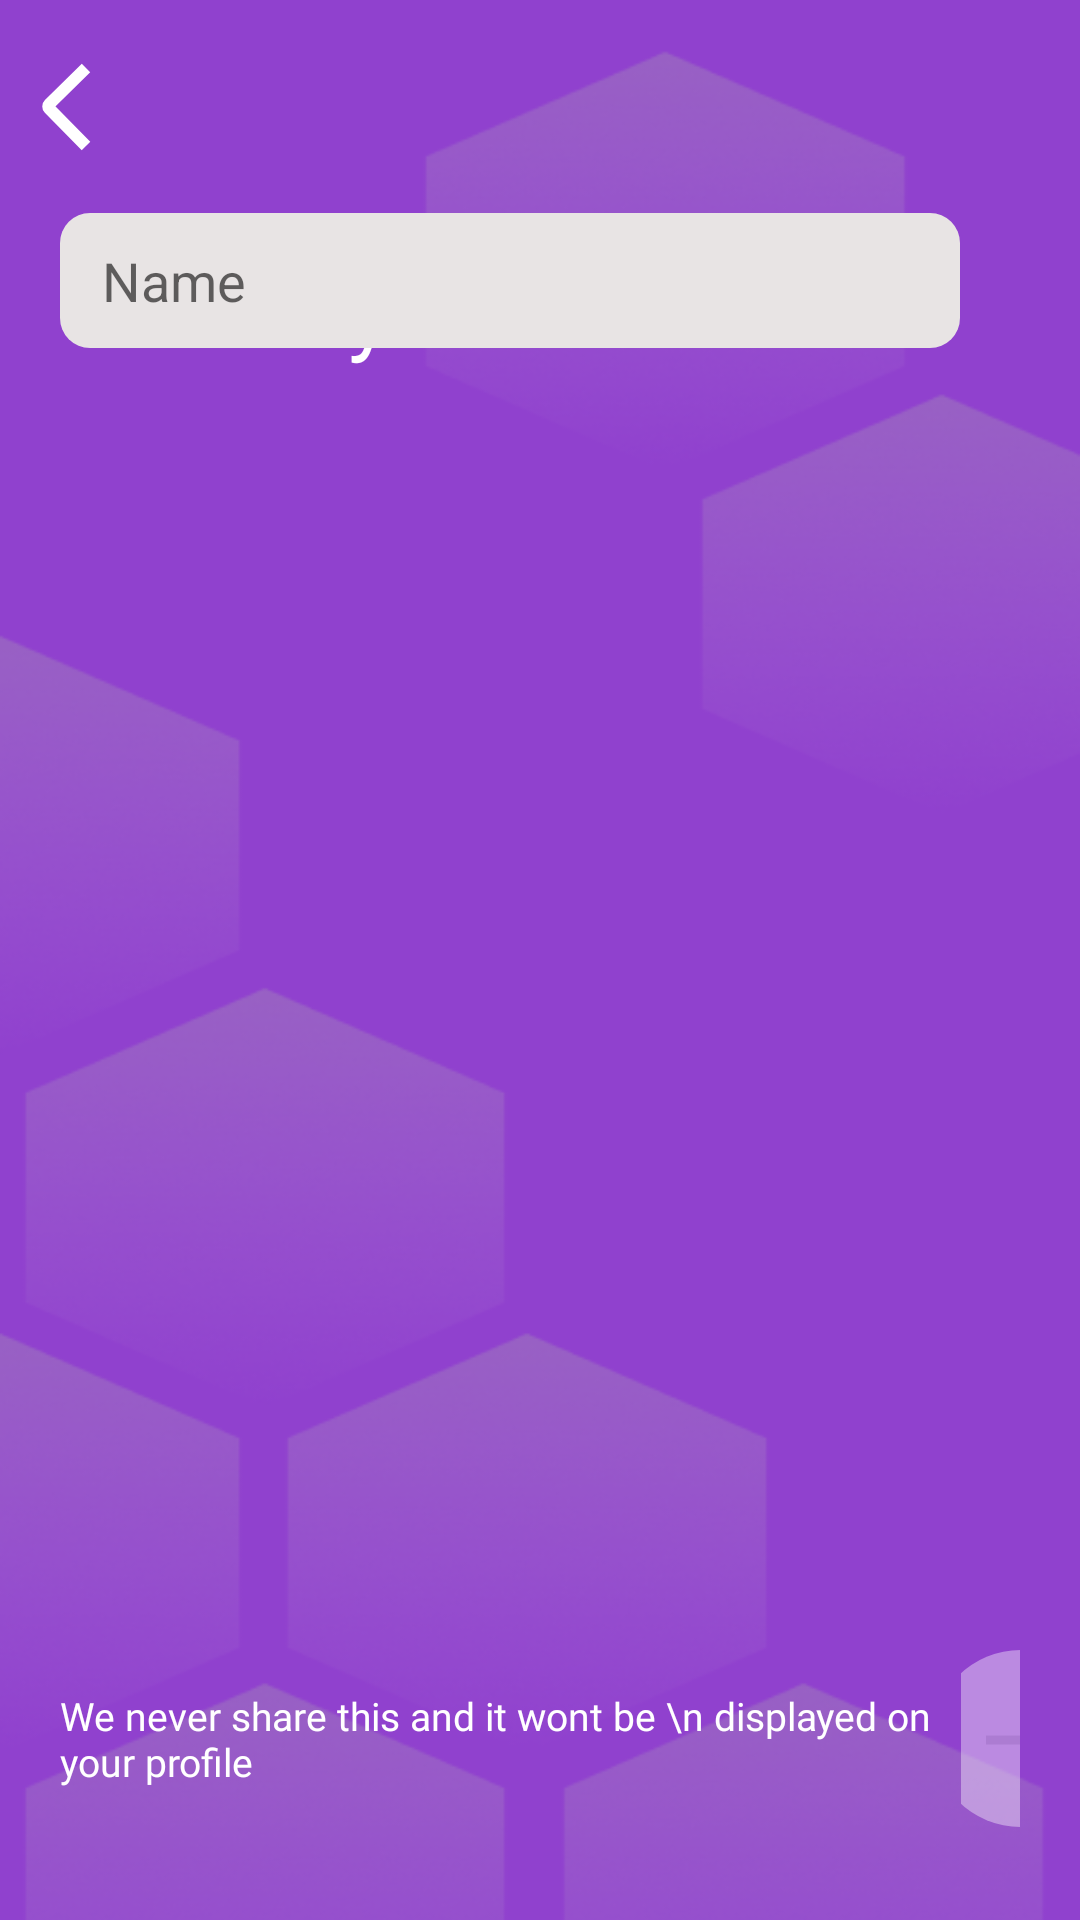

Icon bounding boxes for this 1080*1920 phone screenshot, format box=[x1, y1, x2, y2]:
backbtn: box=[42, 64, 90, 150]
